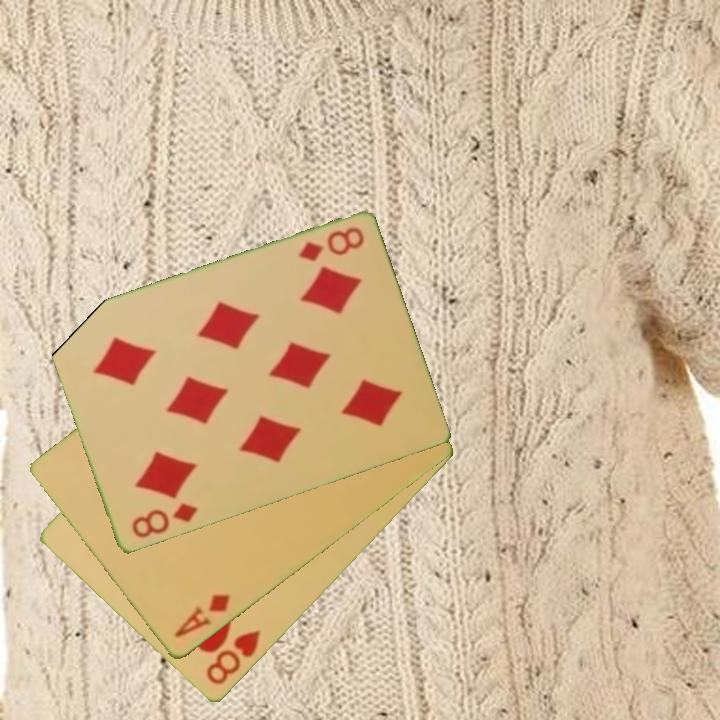8d: (128, 499, 201, 542), (294, 223, 367, 265)
8h: (202, 627, 264, 688)
Ad: (170, 590, 233, 642)
